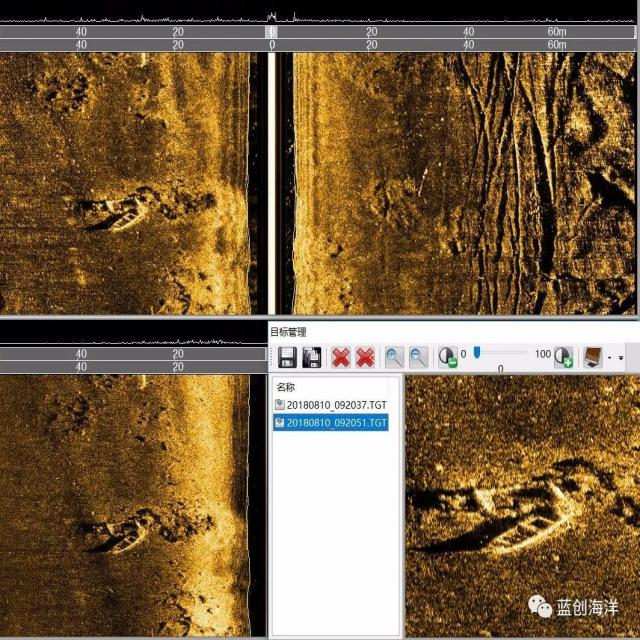ship: (478, 491, 572, 567), (106, 522, 147, 559), (108, 198, 147, 234)
